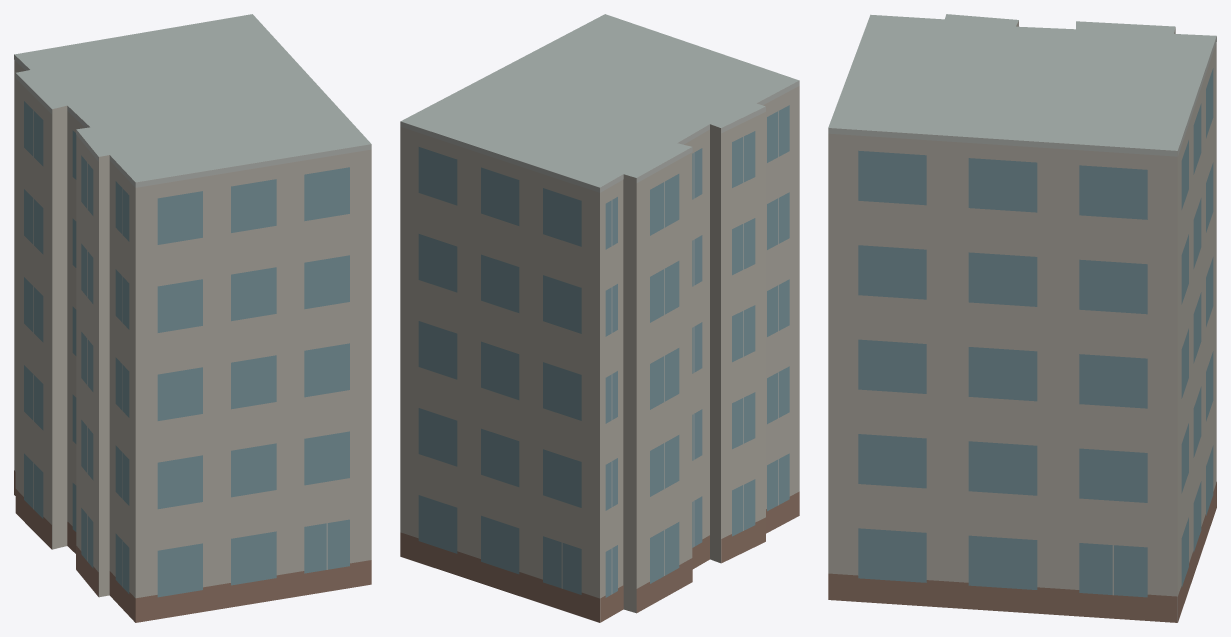
The model's file is survey-upis-32745207.glb.
3 renders of one model, left to right at view 1: azimuth 30°, elevation 25°; view 2: azimuth 150°, elevation 25°; view 3: azimuth 270°, elevation 25°, orthographic. The views are drawn at different scales.
Visible parts, largest first — view 1: survey-upis-32745207.tmp; view 2: survey-upis-32745207.tmp; view 3: survey-upis-32745207.tmp.
Boxes of the visible parts, left/top/right/bottom form: survey-upis-32745207.tmp: left=14, top=14, right=371, bottom=622; survey-upis-32745207.tmp: left=400, top=14, right=799, bottom=622; survey-upis-32745207.tmp: left=828, top=14, right=1216, bottom=622.
Size of the model in its own units: 12.45 by 20 by 14.94.
